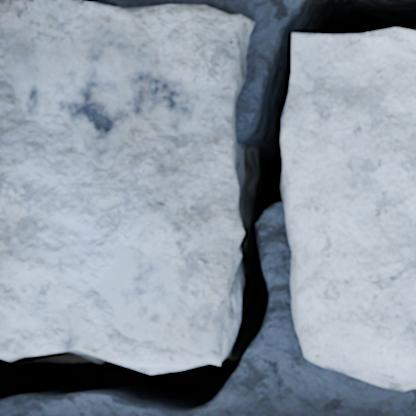brick: (0, 0, 253, 372), (281, 28, 415, 390)
crack: (0, 0, 415, 415)
